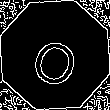O_N: (26, 23, 84, 87)
